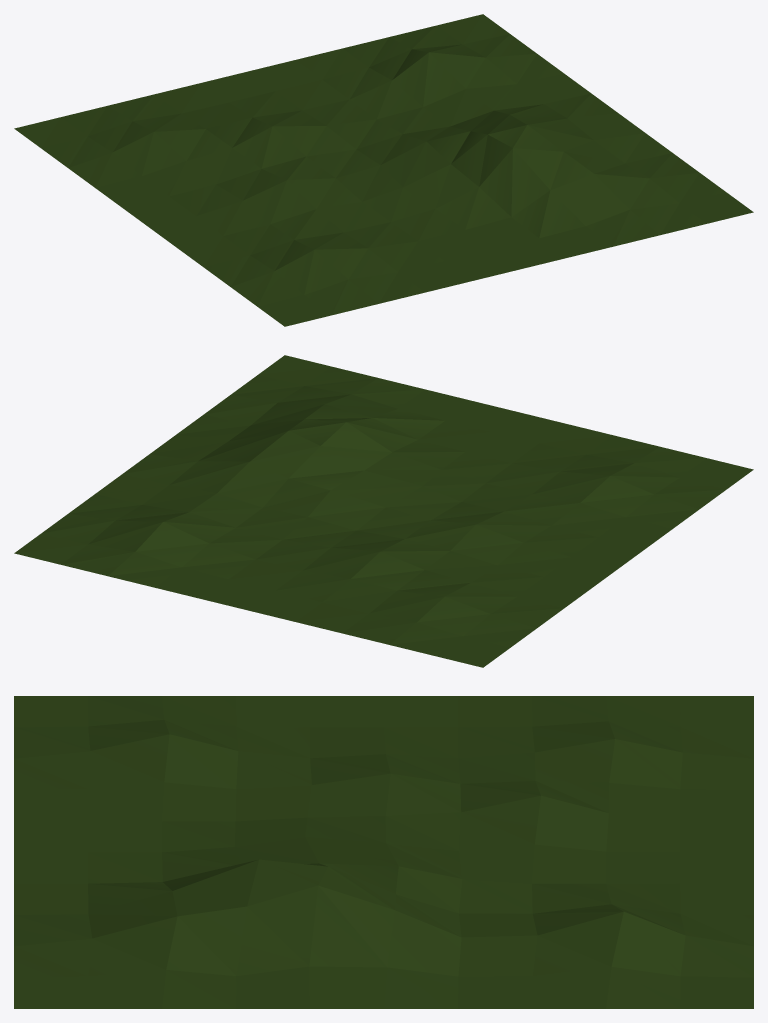
Rendered from ground.glb.
3 views of the same model, one above another, from view 1: azimuth 30°, elevation 25°; view 2: azimuth 150°, elevation 25°; view 3: azimuth 270°, elevation 25° (orthographic). The views are drawn at different scales.
Visible parts, largest first — view 1: Grid; view 2: Grid; view 3: Grid.
Boxes of the visible parts, x1,y1,x2,y2 form: Grid: (14, 14, 753, 326); Grid: (14, 355, 753, 667); Grid: (14, 696, 753, 1008).
Bounding box in the file's own units: 50 × 3.64 × 50.
